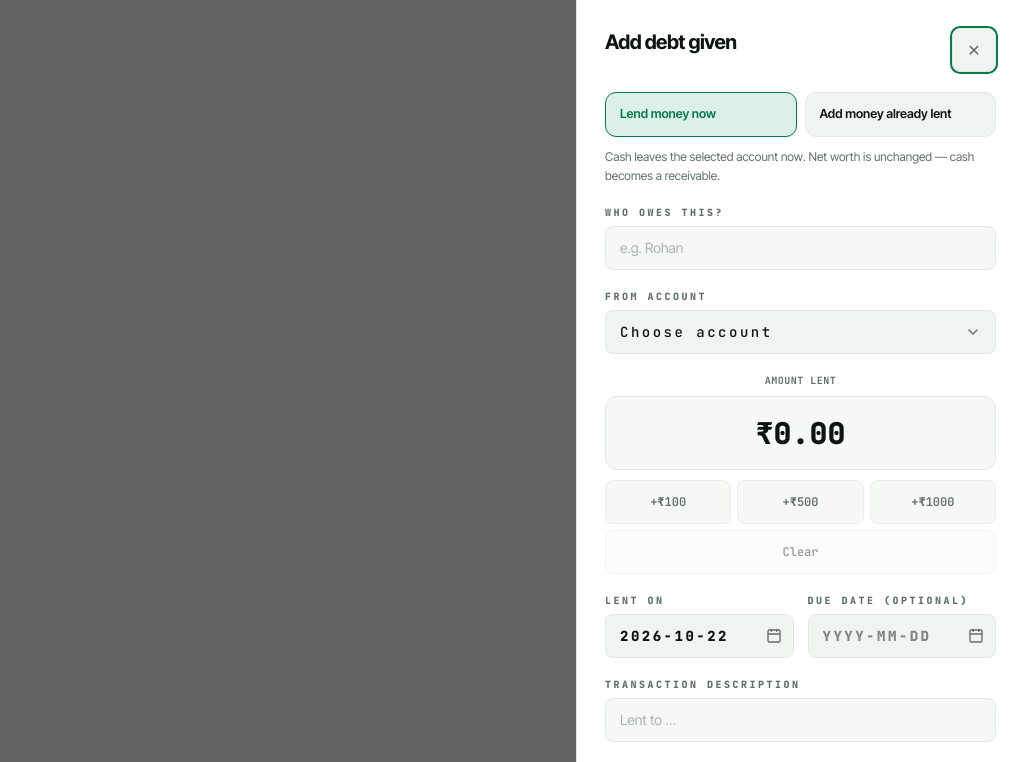
Test: CreateReceivableSheet › switches to opening balance mode and explains net worth rises
Click the button "Add money already lent". click: (900, 114)
box: top-left (804, 92), bottom-right (996, 137)
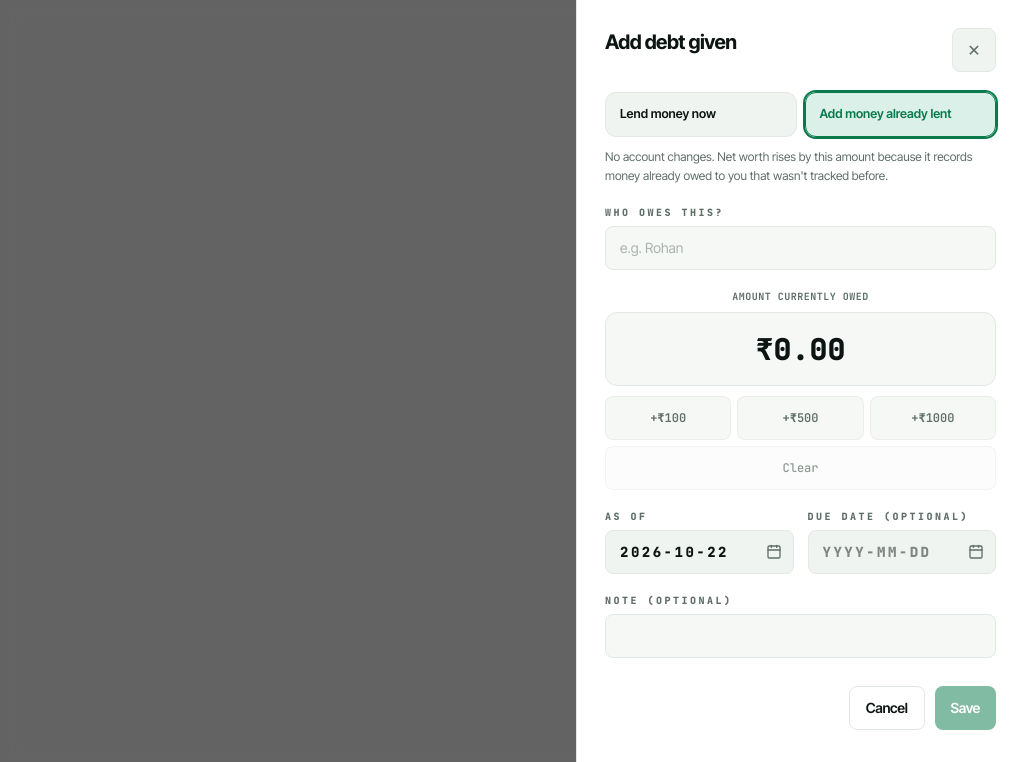
Expected: the text "Net worth rises by this amount" is shown, top-left (605, 149), bottom-right (972, 183)
Expected: the text labelled "From account" is gone
Expected: the label labelled "Transaction description" is gone
